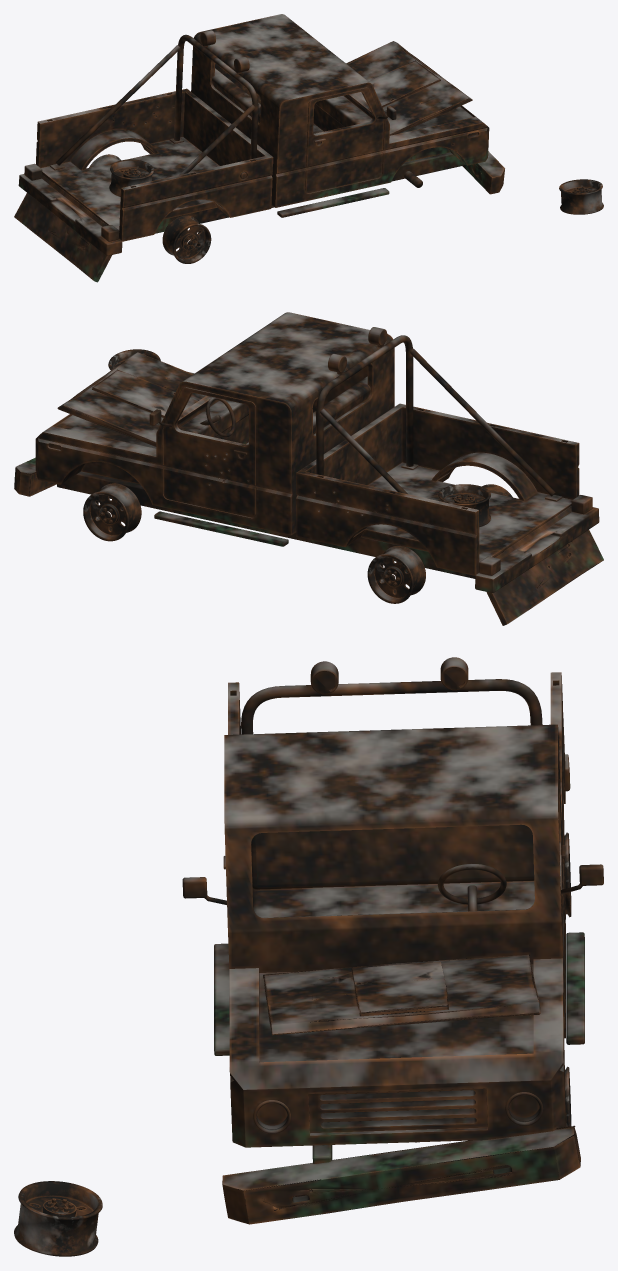
The model's file is pickup_wreck.glb.
3 views of the same model, one above another, from view 1: azimuth 30°, elevation 25°; view 2: azimuth 150°, elevation 25°; view 3: azimuth 270°, elevation 25° (orthographic). The views are drawn at different scales.
Parts seen in each view (by area): view 1: Body, Wheel_RR, Wheel_FR, SpareWheel; view 2: Body, Wheel_FL, Wheel_RL, SpareWheel; view 3: Body, Wheel_FR.
Boxes of the visible parts, bbox=[...] form: Body: bbox=[14, 14, 504, 282]; Wheel_RR: bbox=[162, 215, 211, 263]; Wheel_FR: bbox=[559, 179, 603, 214]; SpareWheel: bbox=[109, 159, 153, 196]; Body: bbox=[14, 312, 603, 625]; Wheel_FL: bbox=[83, 483, 141, 541]; Wheel_RL: bbox=[367, 546, 425, 603]; SpareWheel: bbox=[438, 484, 490, 526]; Body: bbox=[182, 657, 603, 1224]; Wheel_FR: bbox=[14, 1181, 102, 1256].
Size of the model in its own units: 5.51 by 2.18 by 3.18.
2 materials, 2 textured.
